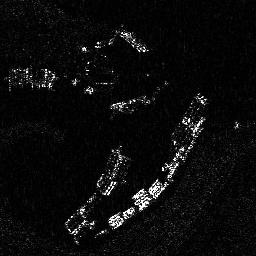ship: (117, 28, 150, 53)
